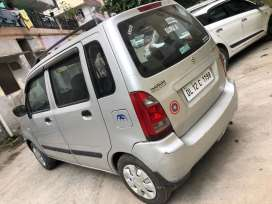nameplate: (168, 61, 221, 106)
